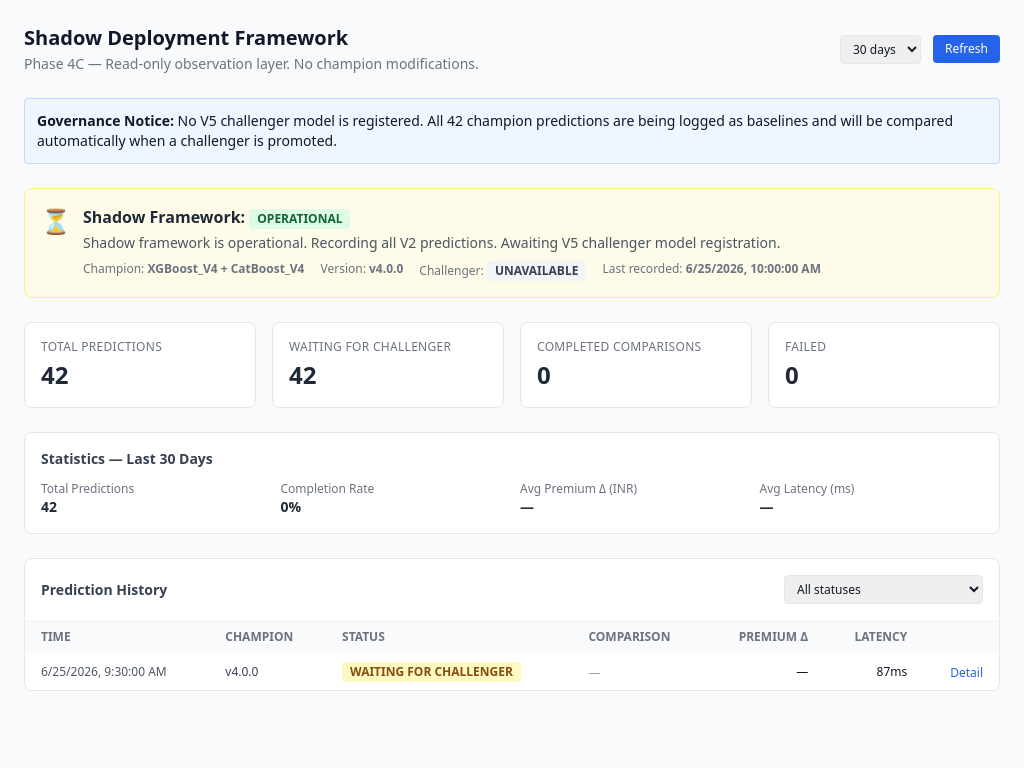
Test: ShadowPanel › closes detail drawer on close button
This screenshot has width=1024, height=768.
Step 1. Click the row with test id "shadow-history-row" → [512, 672], box [25, 653, 999, 690]
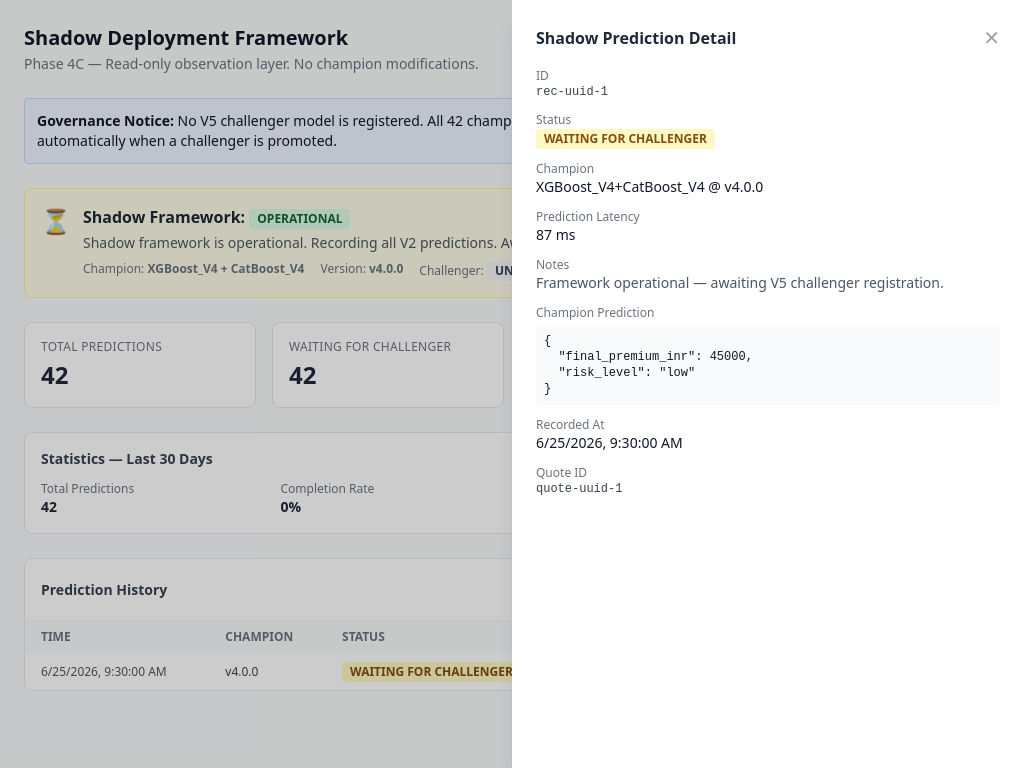
Expected: the element with test id "shadow-detail-drawer" is shown
Step 2. Click the button with test id "shadow-detail-close" → [992, 38], box [983, 24, 1000, 52]
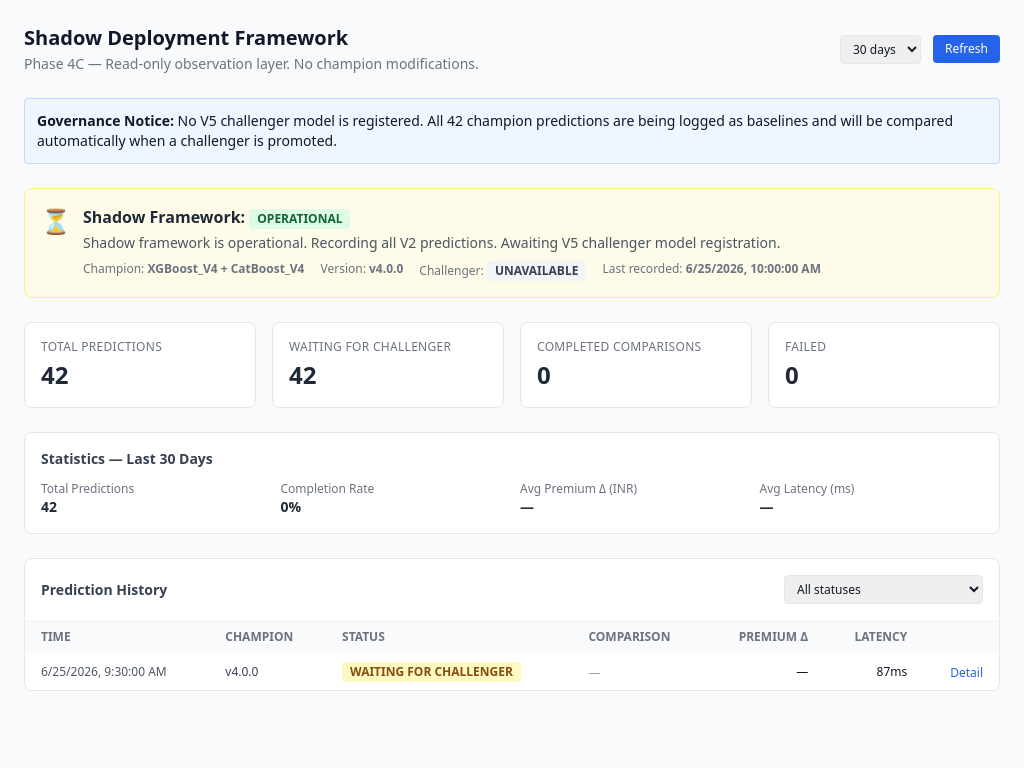
Expected: the element with test id "shadow-detail-drawer" is gone
